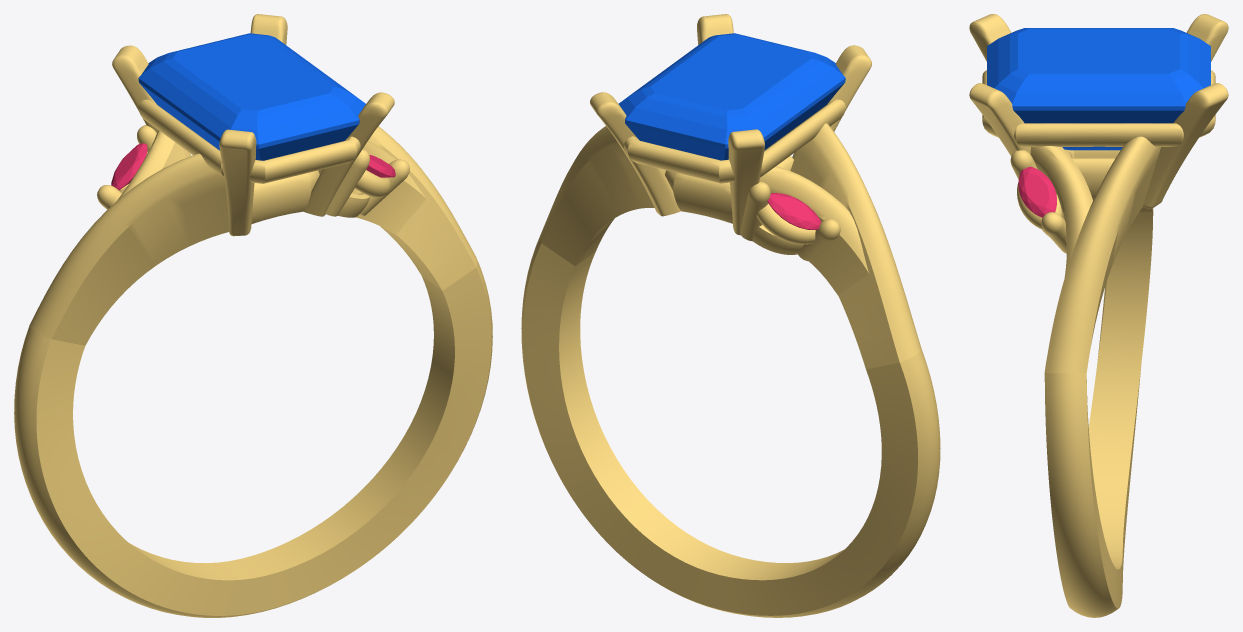
Rendered from Nicholas v2.glb.
The picture shows the model from 3 angles, left to right: view 1: azimuth 30°, elevation 25°; view 2: azimuth 150°, elevation 25°; view 3: azimuth 270°, elevation 25°; orthographic projection.
Visible parts, largest first — view 1: v2 YG for 3d model, Nicholas center sapph for 3d model, Nicholas ruby for 3d model; view 2: v2 YG for 3d model, Nicholas center sapph for 3d model, Nicholas ruby for 3d model; view 3: v2 YG for 3d model, Nicholas center sapph for 3d model, Nicholas ruby for 3d model.
Boxes of the visible parts, x1,y1,x2,y2 form: v2 YG for 3d model: (14,14,492,617); Nicholas center sapph for 3d model: (138,33,365,160); Nicholas ruby for 3d model: (111,143,395,190); v2 YG for 3d model: (521,14,940,617); Nicholas center sapph for 3d model: (618,33,845,160); Nicholas ruby for 3d model: (767,193,821,229); v2 YG for 3d model: (969,14,1228,617); Nicholas center sapph for 3d model: (987,28,1210,150); Nicholas ruby for 3d model: (1018,166,1056,217).
Bounding box in the file's own units: 18.42 × 21.38 × 9.26.
